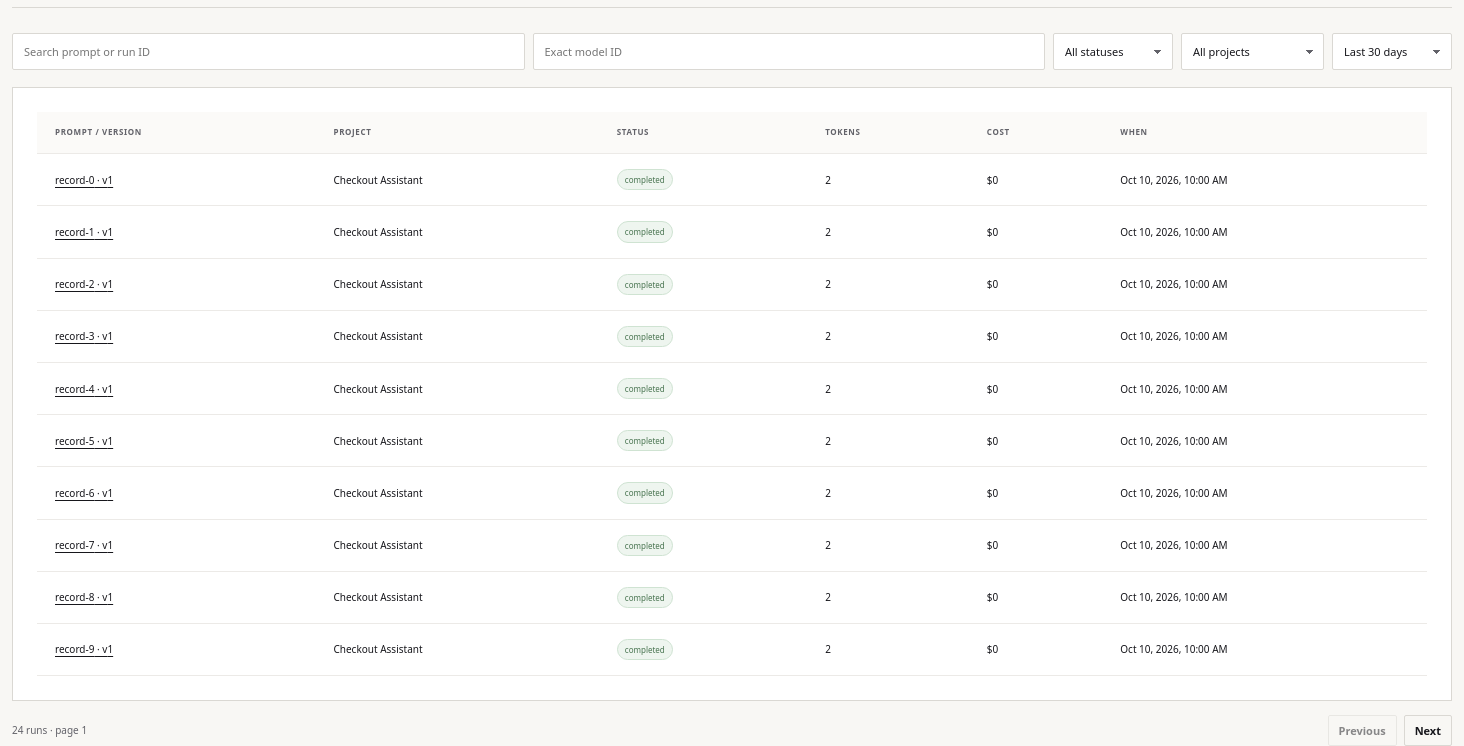
it: runs list correctness › reaches records beyond page one and filters the entire server result set
The image size is (1464, 746).
(page scrolled)
expect the field labelled "Search prompt or run ID" is shown: met, box top-left (12, 33), bottom-right (524, 70)
Click the button "Next".
click(1428, 731)  # box top-left (1404, 715), bottom-right (1452, 745)
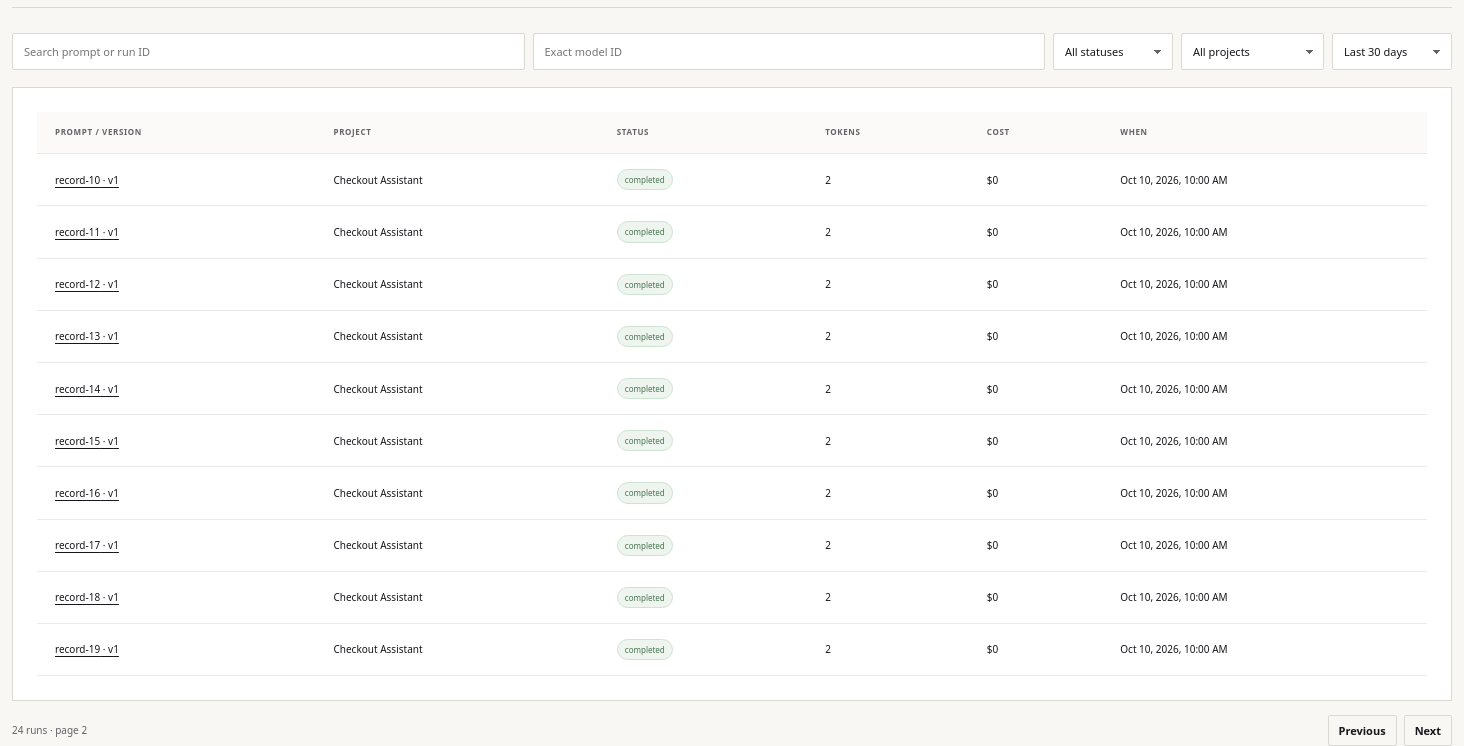
Click the button "Next".
click(1428, 731)  # box top-left (1404, 715), bottom-right (1452, 745)
(page scrolled)
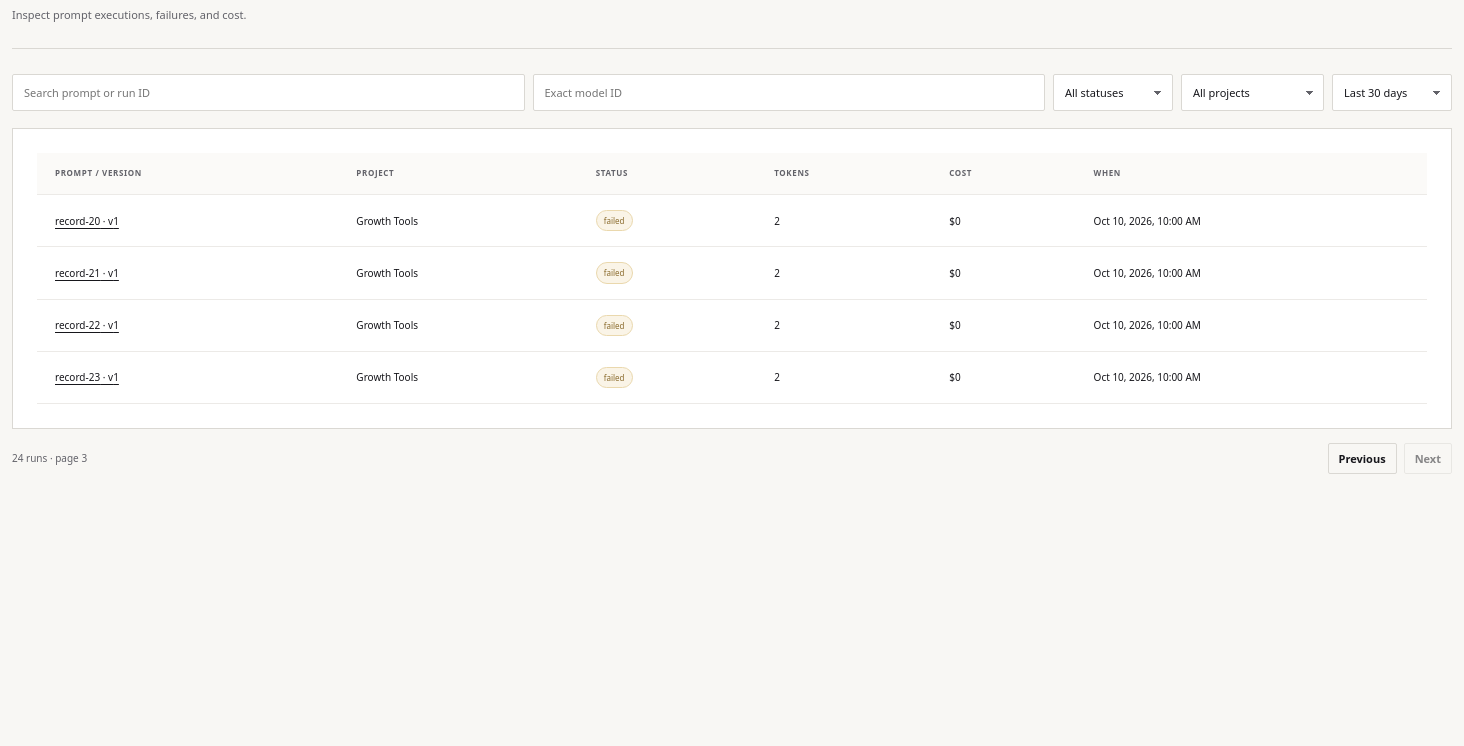
Select "Failed" in the dropdown named "Run status" at {"x": 1113, "y": 93}, box top-left (1053, 74), bottom-right (1173, 111)
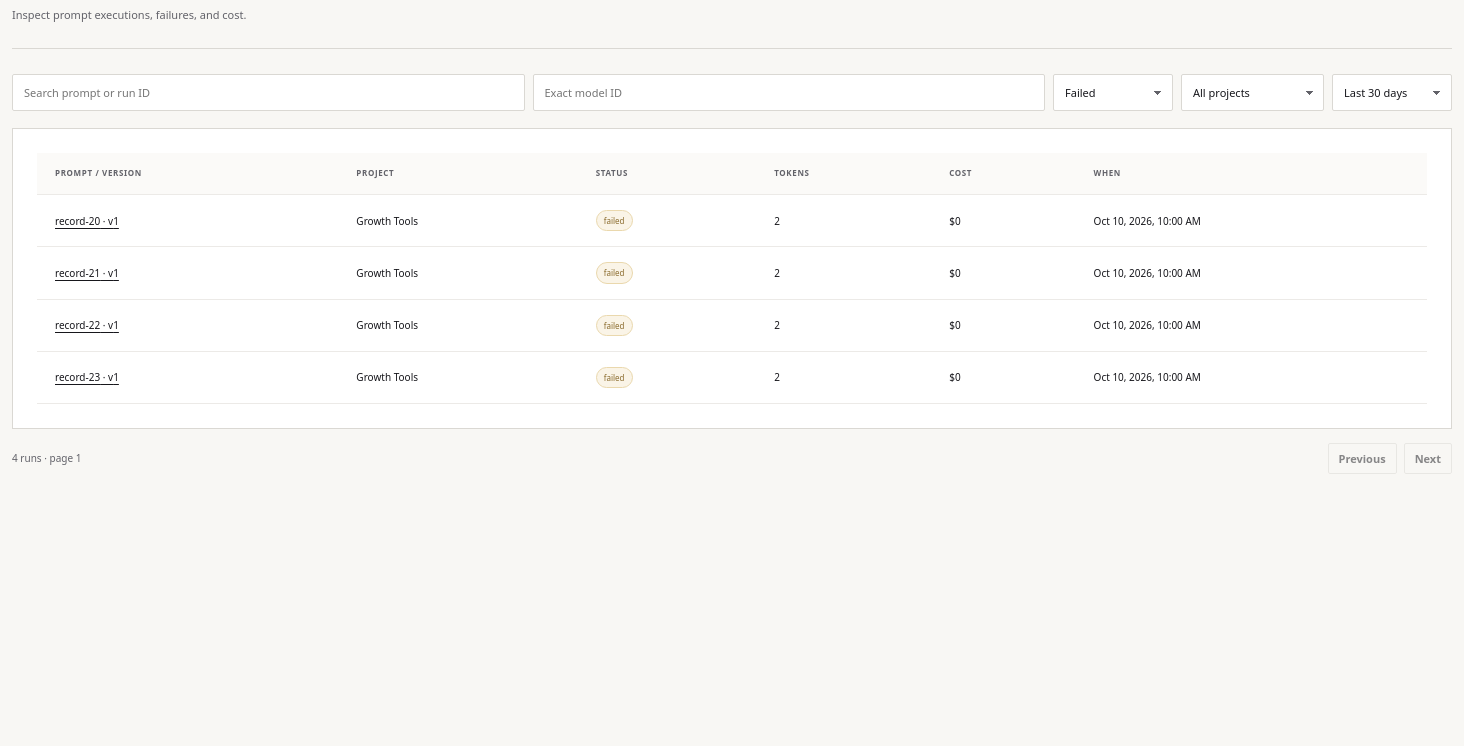
expect the number of rows is 5: met, box top-left (37, 153), bottom-right (1427, 195); top-left (37, 195), bottom-right (1427, 247); top-left (37, 247), bottom-right (1427, 299); top-left (37, 299), bottom-right (1427, 351); top-left (37, 351), bottom-right (1427, 404)
expect the button "Next" is disabled: met, box top-left (1404, 443), bottom-right (1452, 474)
expect the text "4 runs · page 1" is shown: met, box top-left (12, 451), bottom-right (81, 466)
